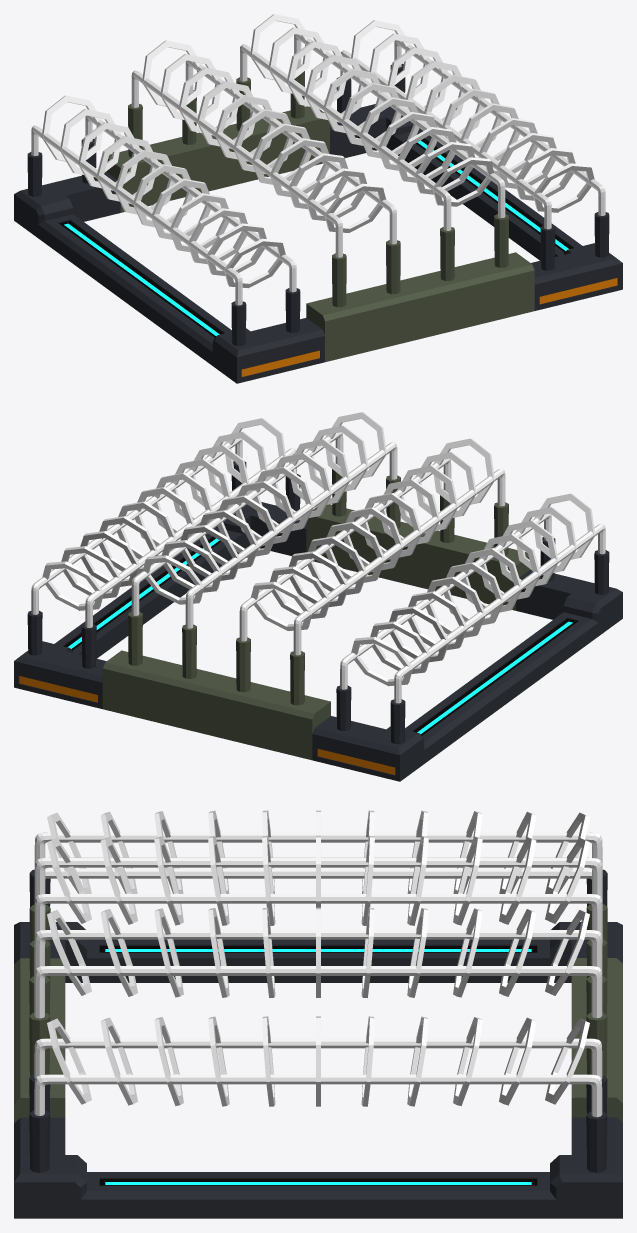
Rendered from SM_Military_Razor_Wire.fbx.
The picture shows the model from 3 angles, top to bottom: view 1: azimuth 30°, elevation 25°; view 2: azimuth 150°, elevation 25°; view 3: azimuth 270°, elevation 25°; orthographic projection. The views are drawn at different scales.
Visible parts, largest first — view 1: SM_Military_Razor_Wire; view 2: SM_Military_Razor_Wire; view 3: SM_Military_Razor_Wire.
Boxes of the visible parts, <box> form: SM_Military_Razor_Wire: <box>14,14,622,383</box>; SM_Military_Razor_Wire: <box>14,412,622,781</box>; SM_Military_Razor_Wire: <box>14,810,622,1218</box>.
Bounding box in the file's own units: 100 × 39.24 × 100.
